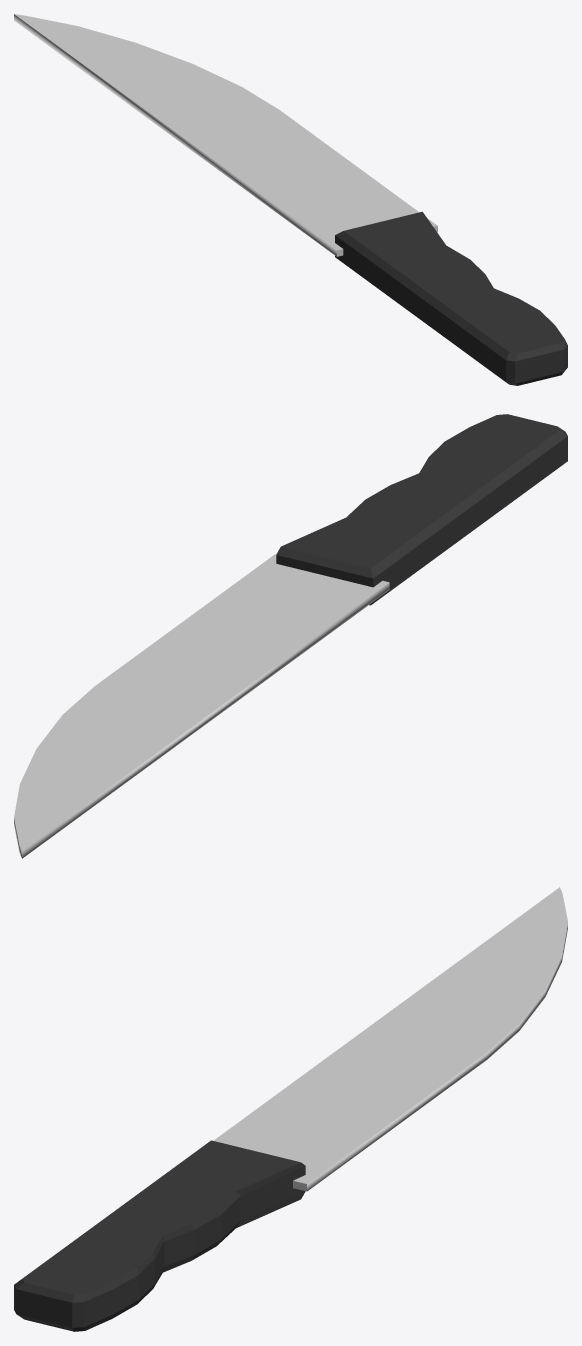
Rendered from knife.glb.
3 renders of one model, top to bottom at view 1: azimuth 30°, elevation 25°; view 2: azimuth 150°, elevation 25°; view 3: azimuth 330°, elevation 25°, orthographic. The views are drawn at different scales.
Visible parts, largest first — view 1: Knife (Big); view 2: Knife (Big); view 3: Knife (Big).
Boxes of the visible parts, x1,y1,x2,y2 form: Knife (Big): (14,14,567,385); Knife (Big): (14,414,567,858); Knife (Big): (14,887,567,1331).
Size of the model in its own units: 0.0417 by 0.0128 by 0.35.
Materials: 1 (1 with a texture image).
